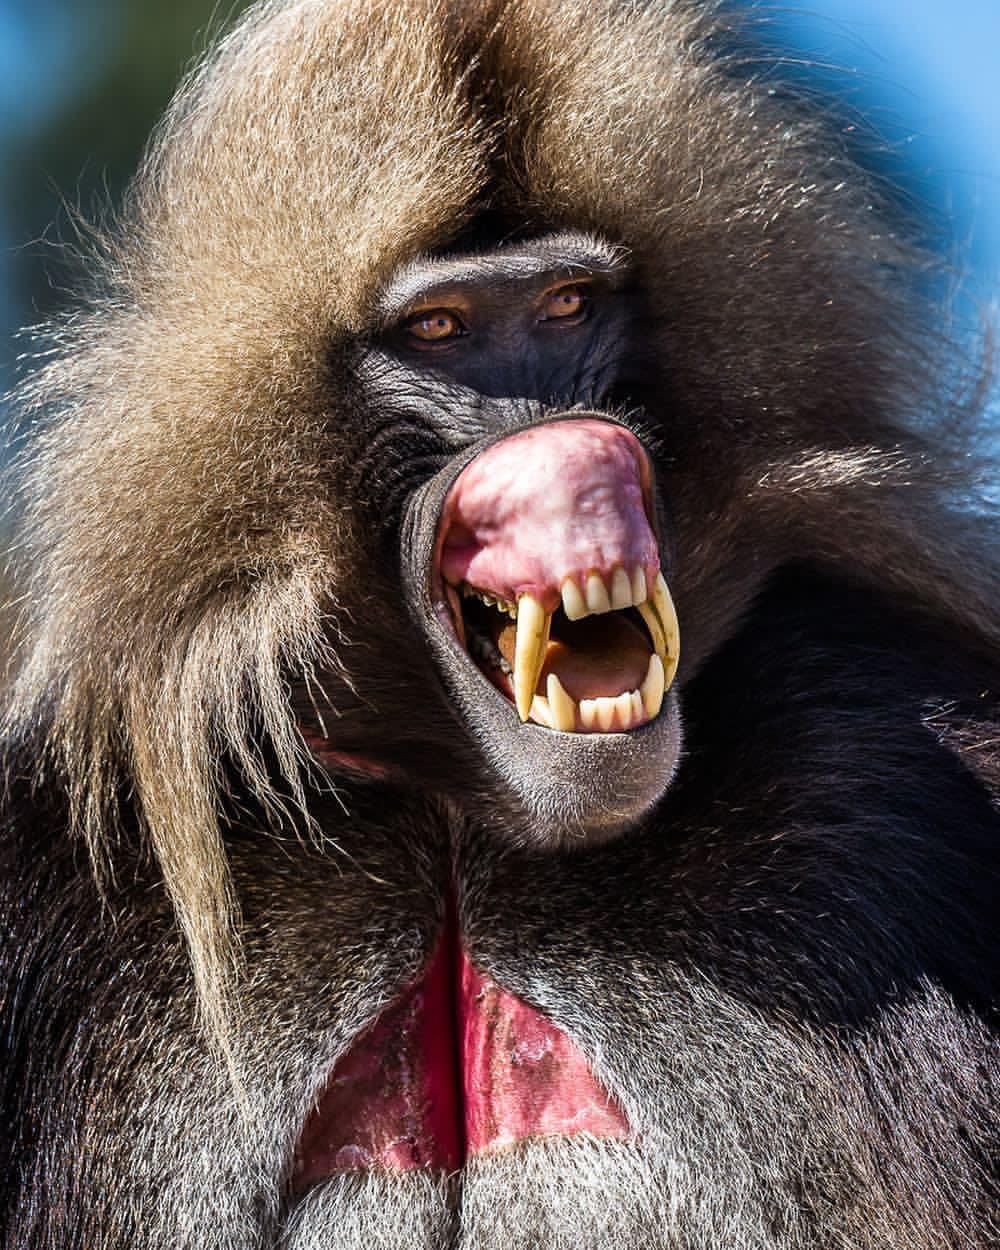Gelada: (160, 46, 912, 1213)
